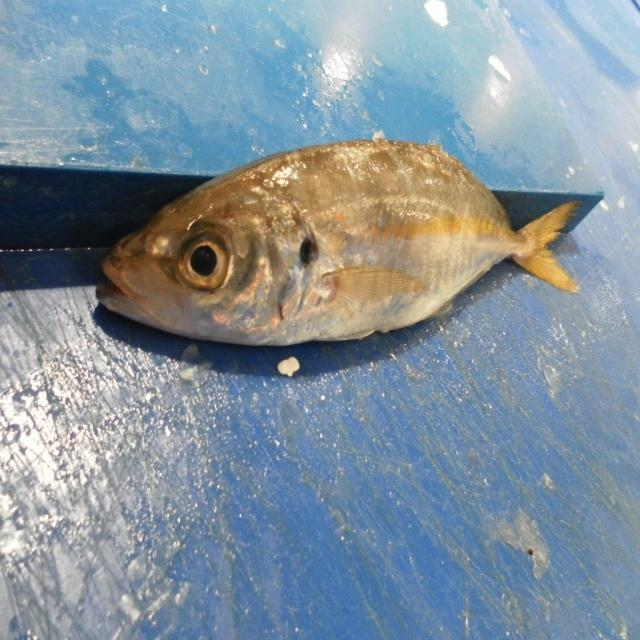Hourse-Mackerel-istavrit-: (96, 137, 594, 351)
